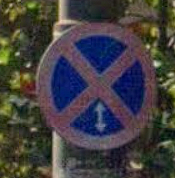oprirea_interzisa: (32, 20, 160, 157)
